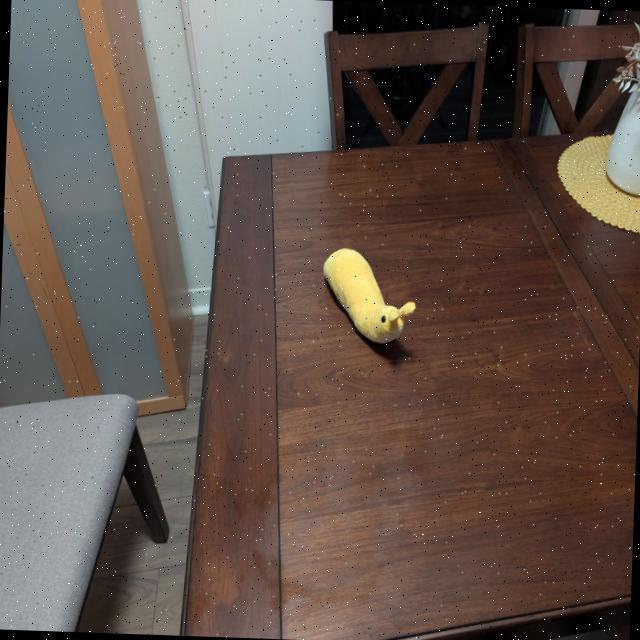banana-slug-toy: (310, 235, 421, 357)
